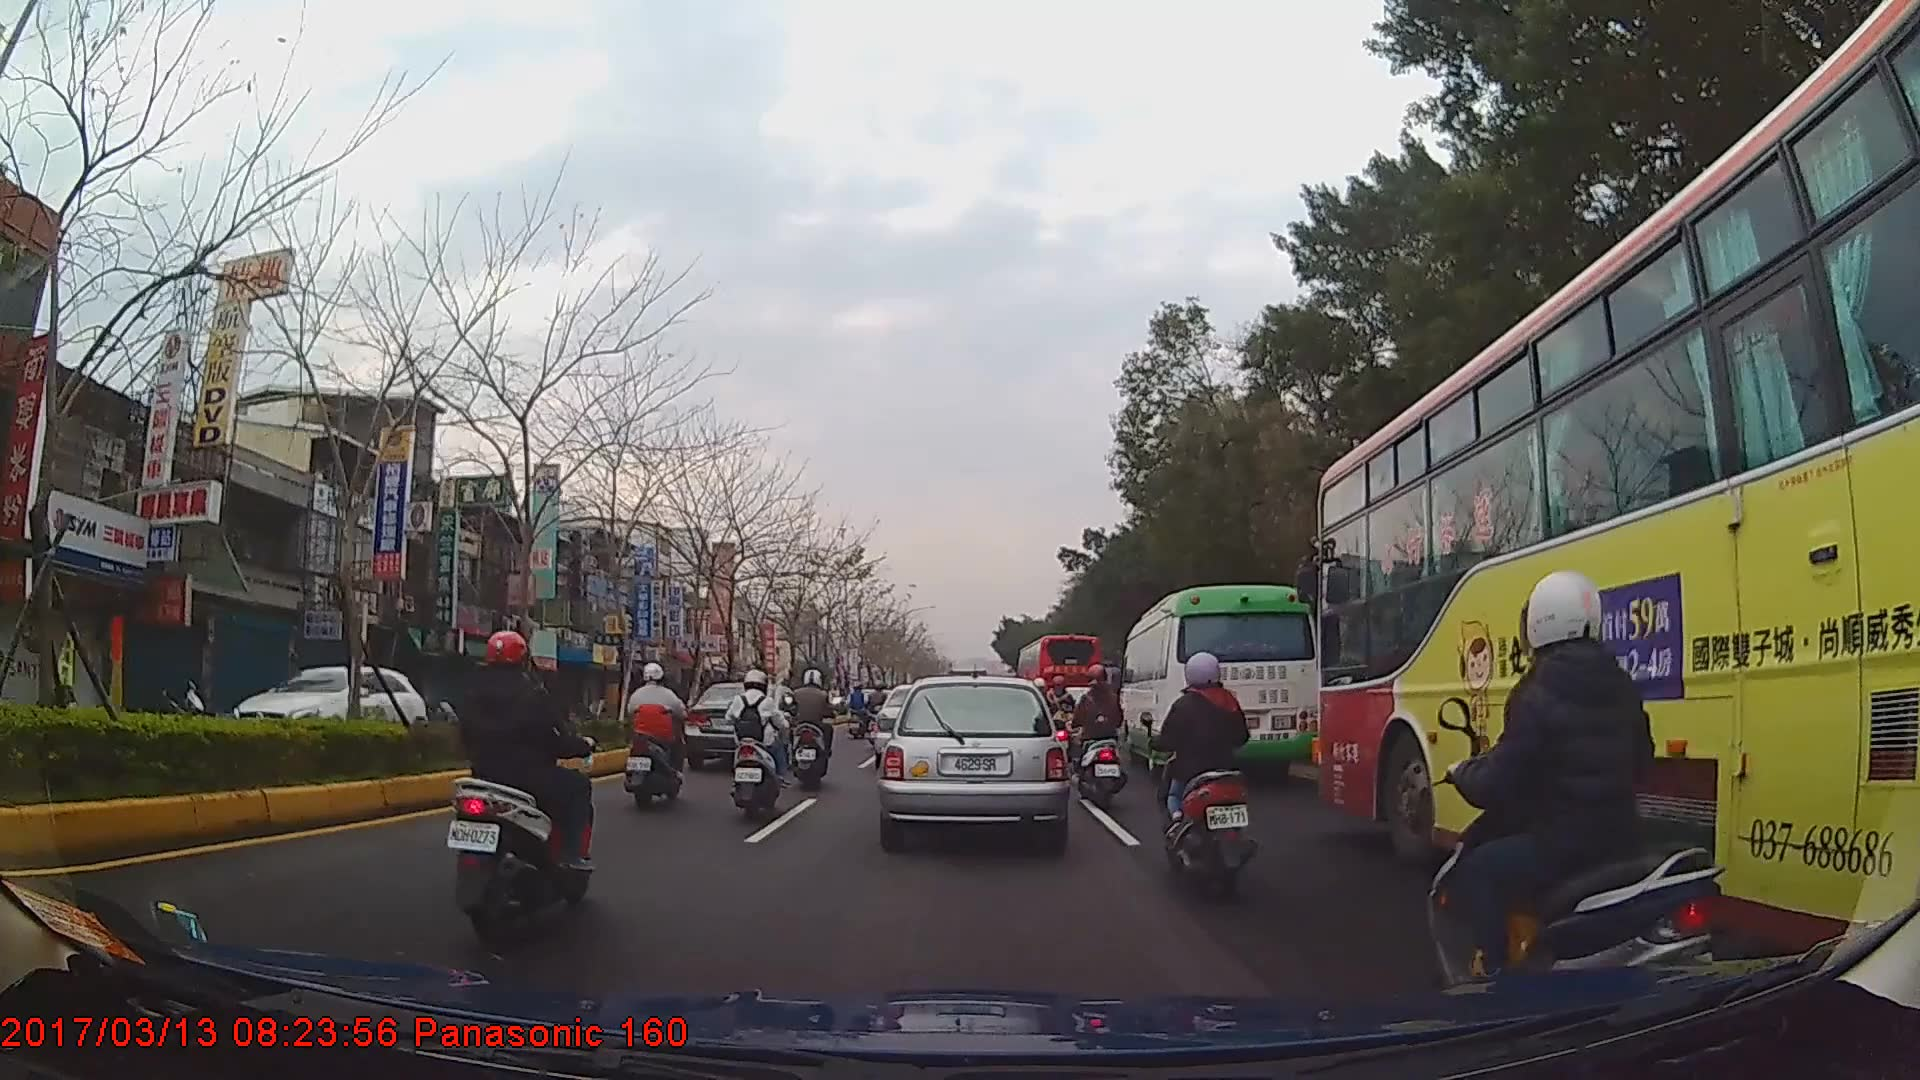rider: (1421, 567, 1735, 1008), (442, 631, 588, 958), (1157, 647, 1267, 906), (624, 662, 691, 809), (725, 668, 789, 819), (1070, 666, 1126, 796), (787, 669, 839, 790), (866, 681, 889, 749), (847, 681, 869, 722)
vehicle: (1314, 0, 1920, 985), (1116, 583, 1319, 776), (880, 674, 1066, 844), (224, 657, 436, 763), (683, 682, 807, 775), (1015, 630, 1103, 739)
